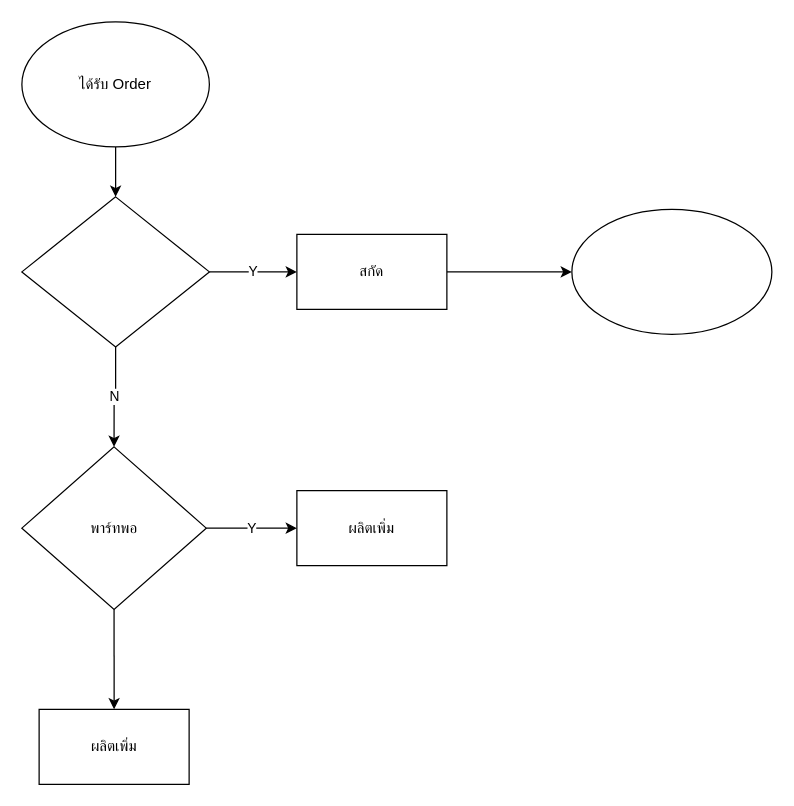
This 794x806 diagram has some shape labels left out. The centre of each missing label's shape, as x and y in pixels:
"Shipment" goes at point (671, 271).
"สต๊อก FG พอสกัด" goes at point (115, 271).
